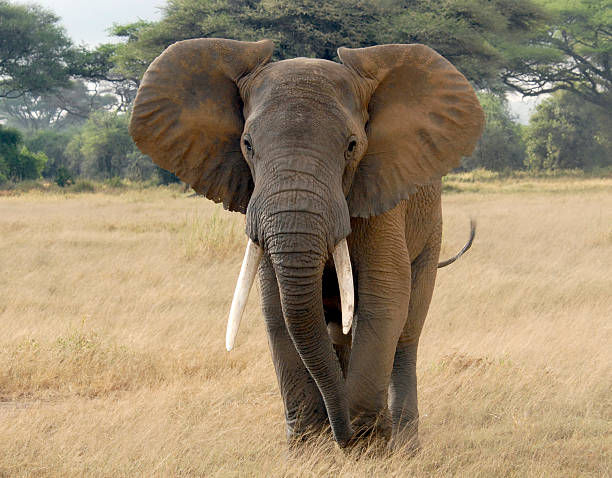africanelephant: (204, 56, 382, 362)
